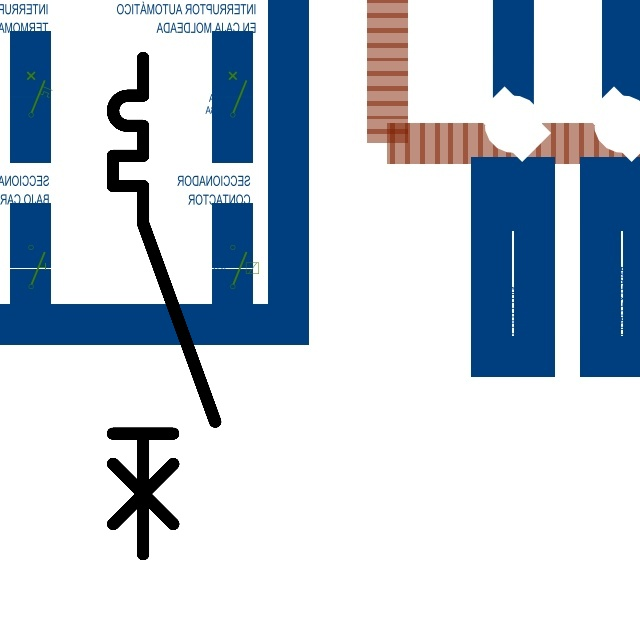interruptor_termomagnetico: (100, 45, 227, 567)
